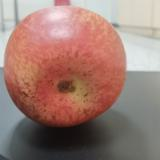apple: (4, 6, 127, 126)
